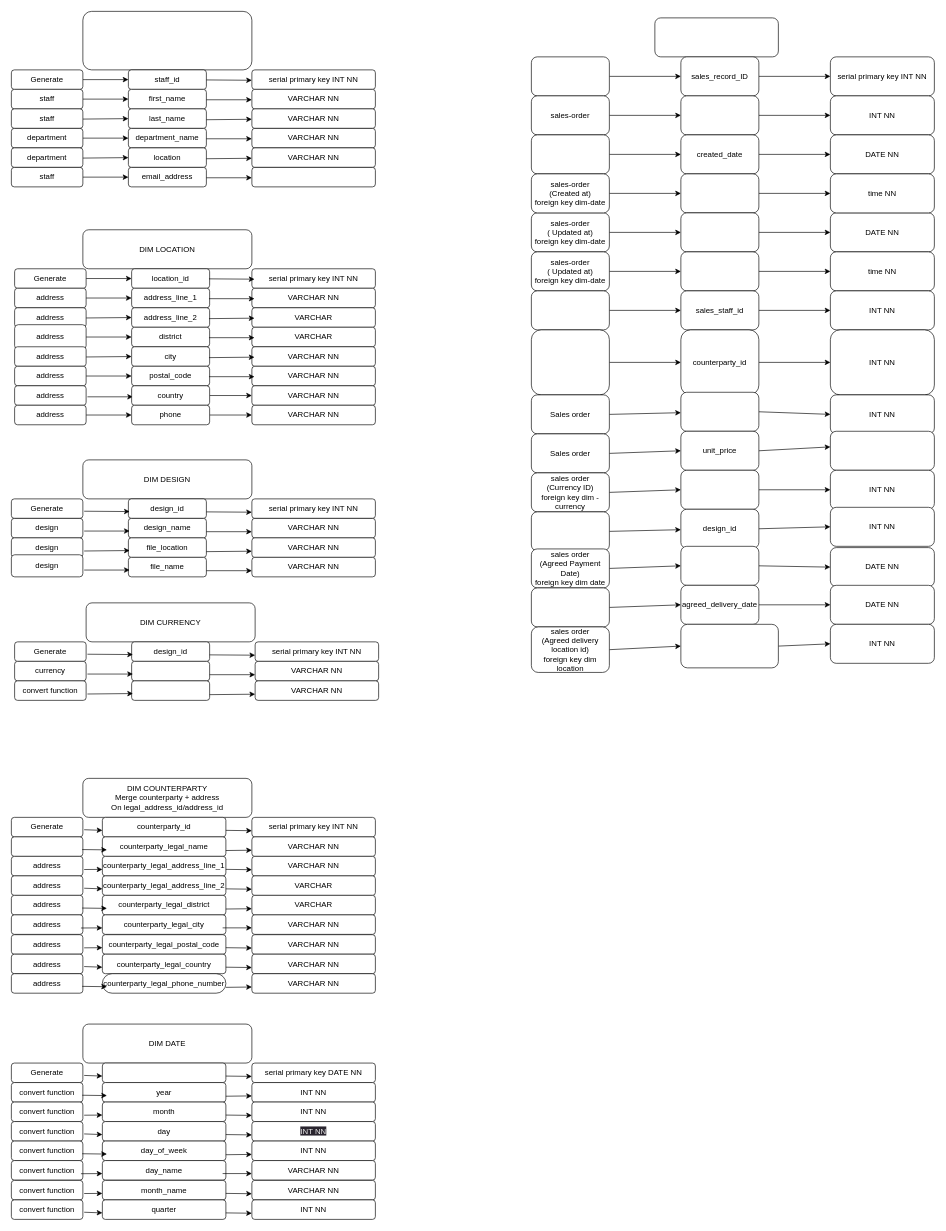
Some shapes in this 946 by 1231 pixel diagram are drawn without their labels. The shapes that lost their labels are listed below. From the top down, each one's centre as x and y in pixels, then its label:
At point (167, 40): "DIM STAFF Merge Staff + Department On Department ID".
At point (716, 37): "FACT SALES ORDER".
At point (570, 76): "Generated".
At point (719, 115): "sales_order_id".
At point (570, 154): "sales-order ( Created at) foreign key dim-date".
At point (313, 177): "email_address NN".
At point (719, 193): "created_time".
At point (719, 232): "last_updated_date".
At point (719, 271): "last_updated_time".
At point (570, 310): "sales order (staff id) foreign key dim-staff".
At point (570, 362): "sales order (counterparty id) foreign key - dim-counterparty".
At point (719, 411): "units_sold".
At point (882, 450): "NUMERIC(10,2) NN".
At point (719, 489): "currency_id".
At point (570, 531): "sales order (design id) Foreign Key - Dim design".
At point (719, 565): "agreed_payment_date".
At point (570, 607): "sales order (Agreed delivery date) foreign key dim date".
At point (729, 646): "agreed_delivery_location_id".
At point (170, 671): "currency_code".
At point (170, 690): "currency_name".
At point (47, 846): "counterparty".
At point (164, 1072): "date_id".
